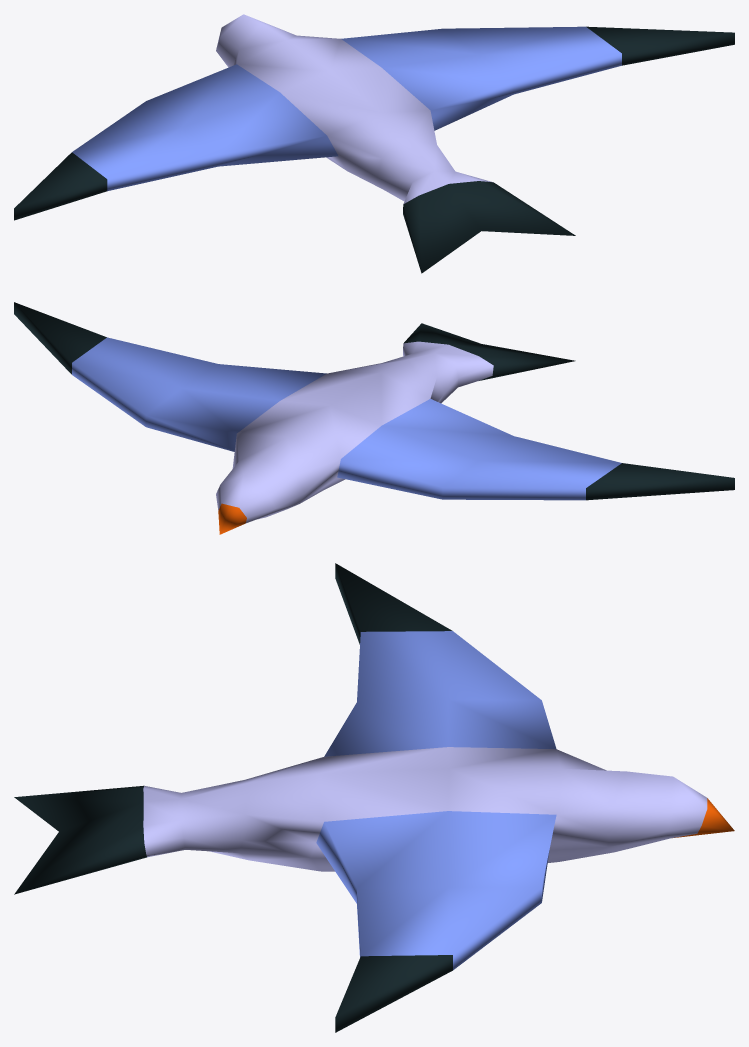
File: Bird1.fbx
3 views of the same model, one above another, from view 1: azimuth 30°, elevation 25°; view 2: azimuth 150°, elevation 25°; view 3: azimuth 270°, elevation 25° (orthographic). The views are drawn at different scales.
Visible parts, largest first — view 1: seagull; view 2: seagull; view 3: seagull.
Boxes of the visible parts, left/top/right/bottom form: seagull: left=14, top=14, right=734, bottom=273; seagull: left=14, top=302, right=734, bottom=534; seagull: left=14, top=563, right=734, bottom=1032.
Size of the model in its own units: 112 by 12.06 by 75.3.
